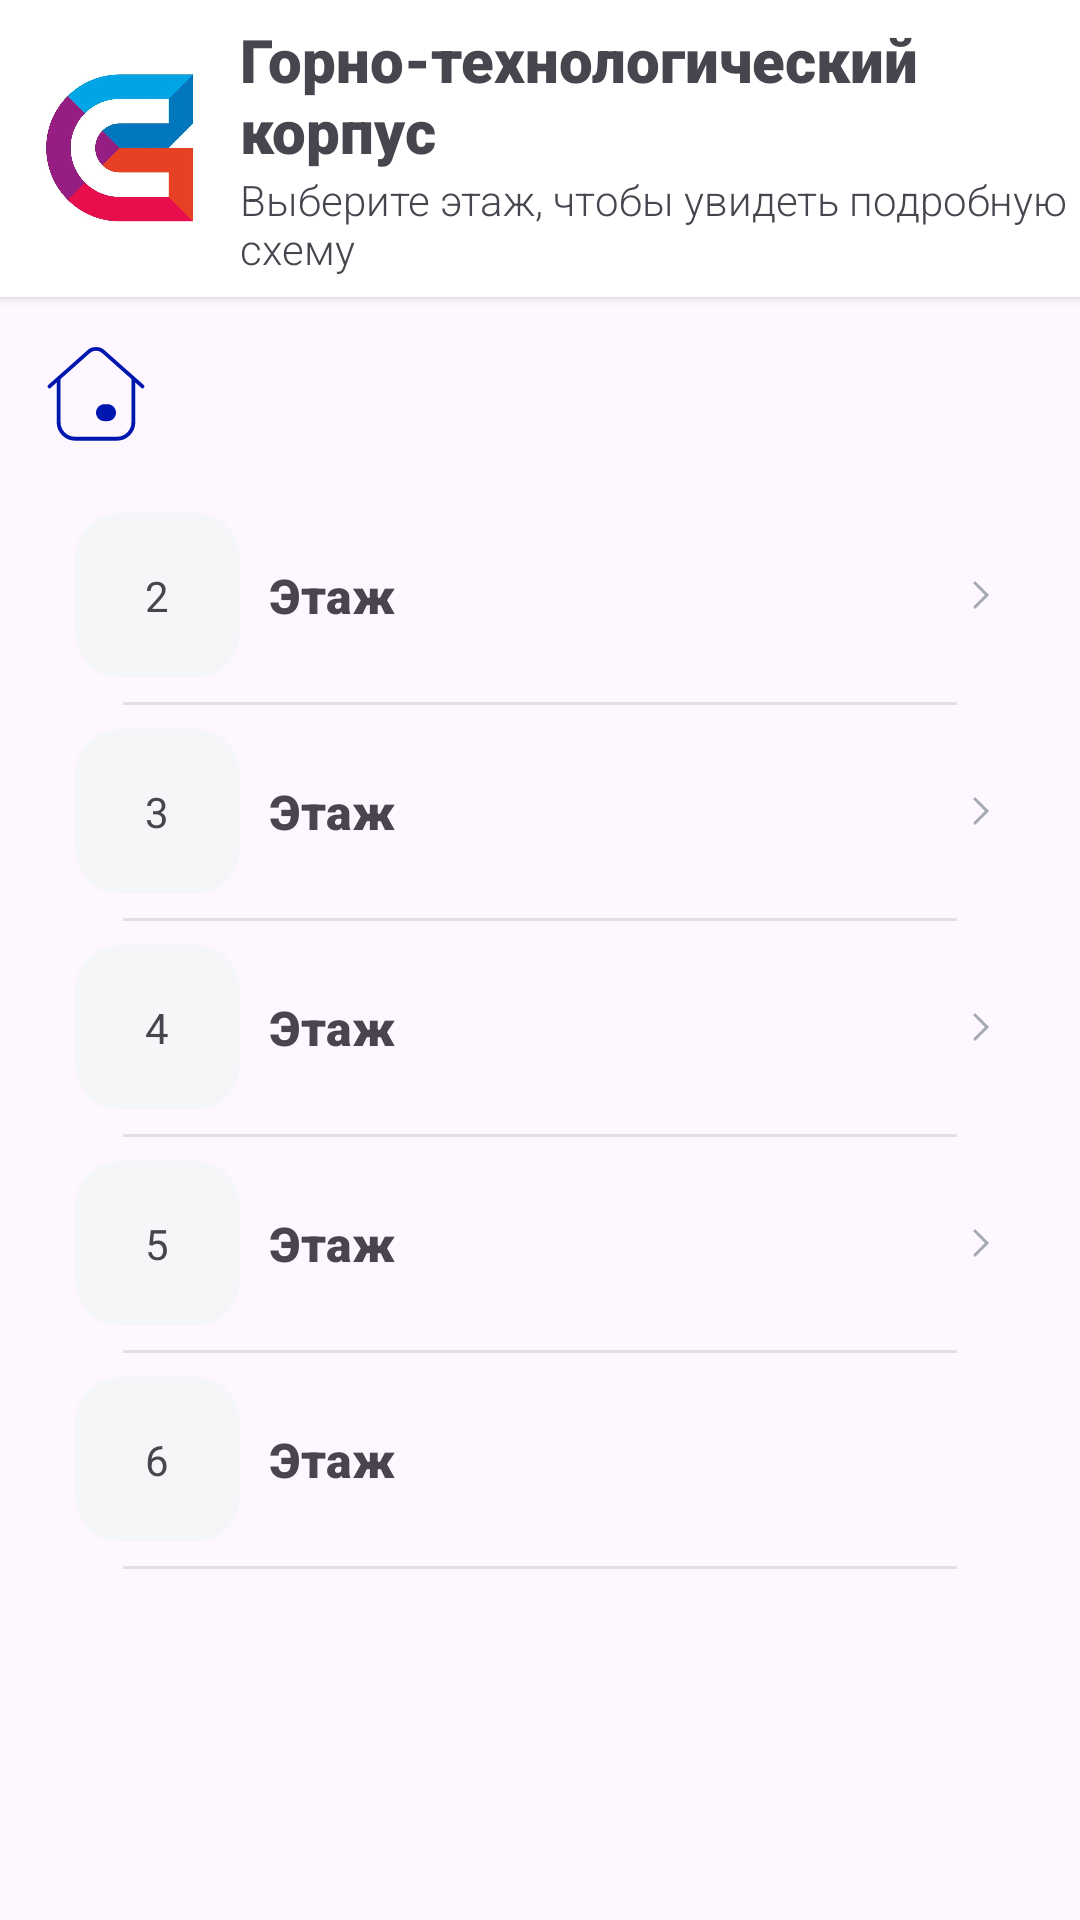

Icon bounding boxes for this 1080 × 1920 phone screenshot, format (x1, y1, x2, y2):
home: (47, 347, 145, 441)
right arrow: (973, 581, 989, 609), (973, 797, 989, 825), (973, 1013, 989, 1041), (973, 1229, 989, 1257)
